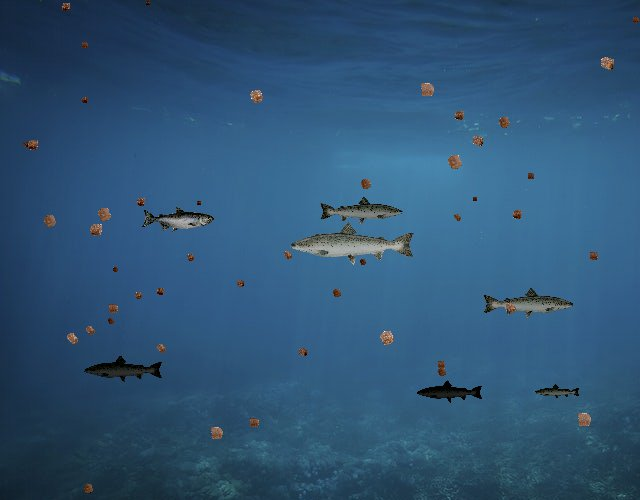Fish: (288, 220, 417, 266), (482, 286, 576, 320), (318, 195, 404, 226), (84, 354, 165, 384), (141, 207, 214, 233), (416, 380, 484, 404), (535, 383, 582, 400)
Pellet: (242, 83, 270, 111), (60, 326, 85, 351), (19, 139, 31, 151)
